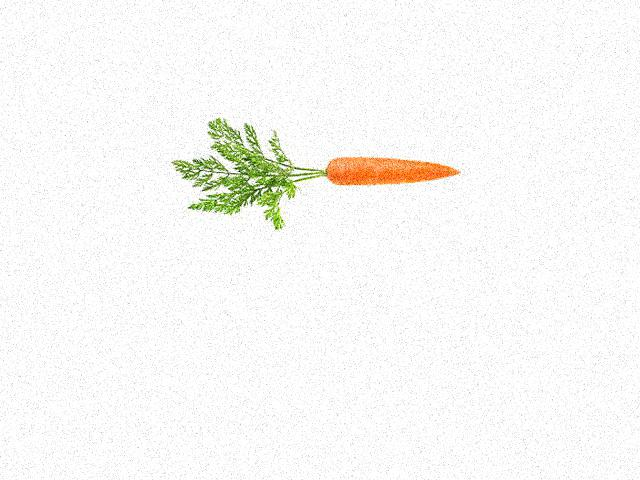carrot: (317, 152, 466, 193)
